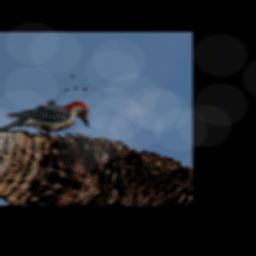Woodpecker: (0, 80, 99, 159)
